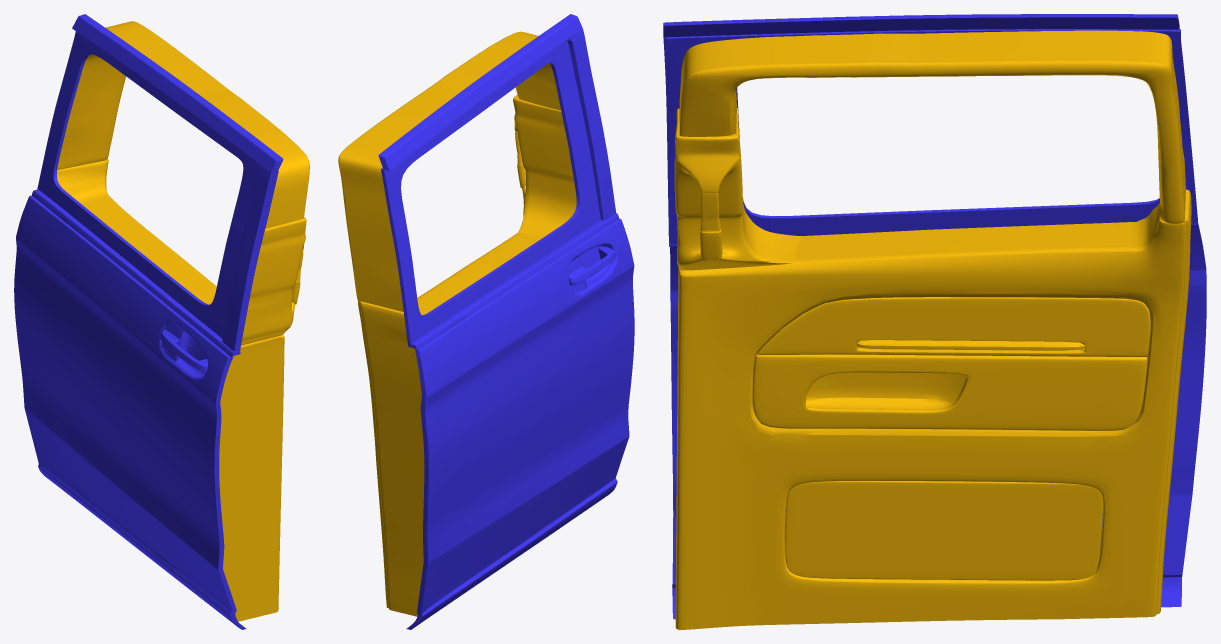
Rendered from door_middle_right.fbx.
3 renders of one model, left to right at view 1: azimuth 30°, elevation 25°; view 2: azimuth 150°, elevation 25°; view 3: azimuth 270°, elevation 25°, orthographic. The views are drawn at different scales.
Parts seen in each view (by area): view 1: CheMen_M_R, CheMen_N_M_R; view 2: CheMen_M_R, CheMen_N_M_R; view 3: CheMen_N_M_R, CheMen_M_R.
Boxes of the visible parts, x1,y1,x2,y2 form: CheMen_M_R: [14, 14, 283, 629]; CheMen_N_M_R: [57, 21, 309, 621]; CheMen_M_R: [378, 14, 634, 629]; CheMen_N_M_R: [338, 31, 576, 616]; CheMen_N_M_R: [674, 30, 1191, 629]; CheMen_M_R: [663, 14, 1206, 619].
Size of the model in its own units: 35.14 by 145 by 115.
